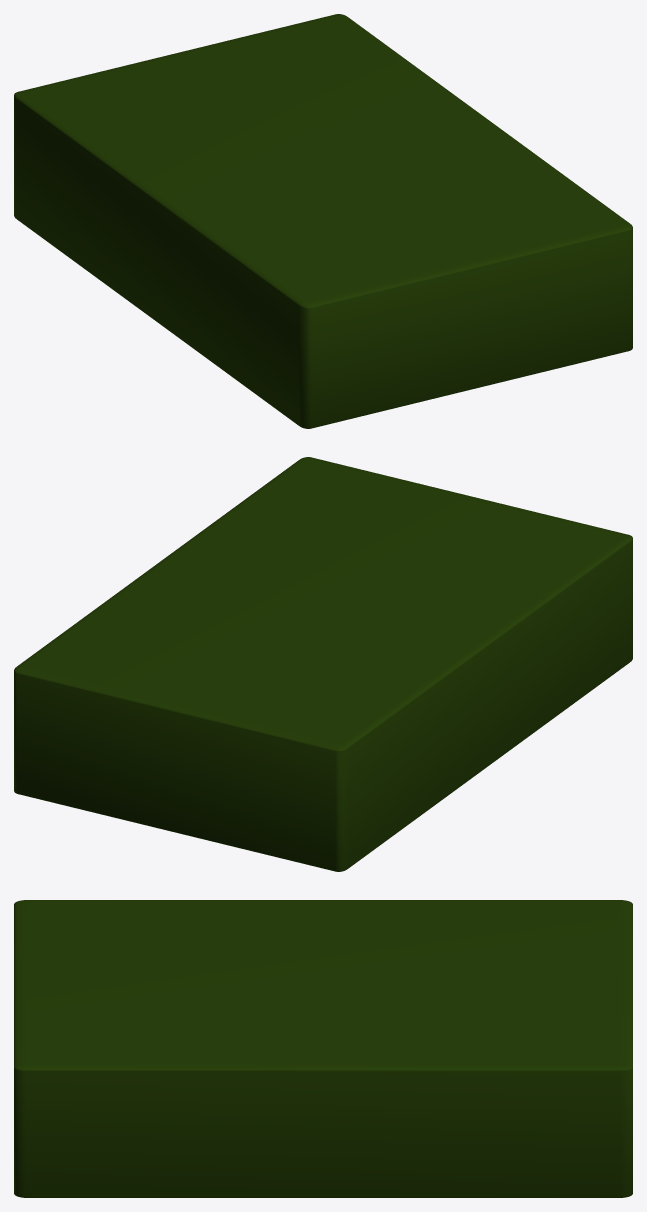
Rendered from DarkGreenBoxSofa.fbx.
3 renders of one model, top to bottom at view 1: azimuth 30°, elevation 25°; view 2: azimuth 150°, elevation 25°; view 3: azimuth 270°, elevation 25°, orthographic. The views are drawn at different scales.
Parts seen in each view (by area): view 1: Cube; view 2: Cube; view 3: Cube.
Boxes of the visible parts, bbox=[...] form: Cube: bbox=[14, 14, 632, 428]; Cube: bbox=[14, 457, 632, 871]; Cube: bbox=[14, 900, 632, 1197].
Size of the model in its own units: 271 by 97.31 by 416.
